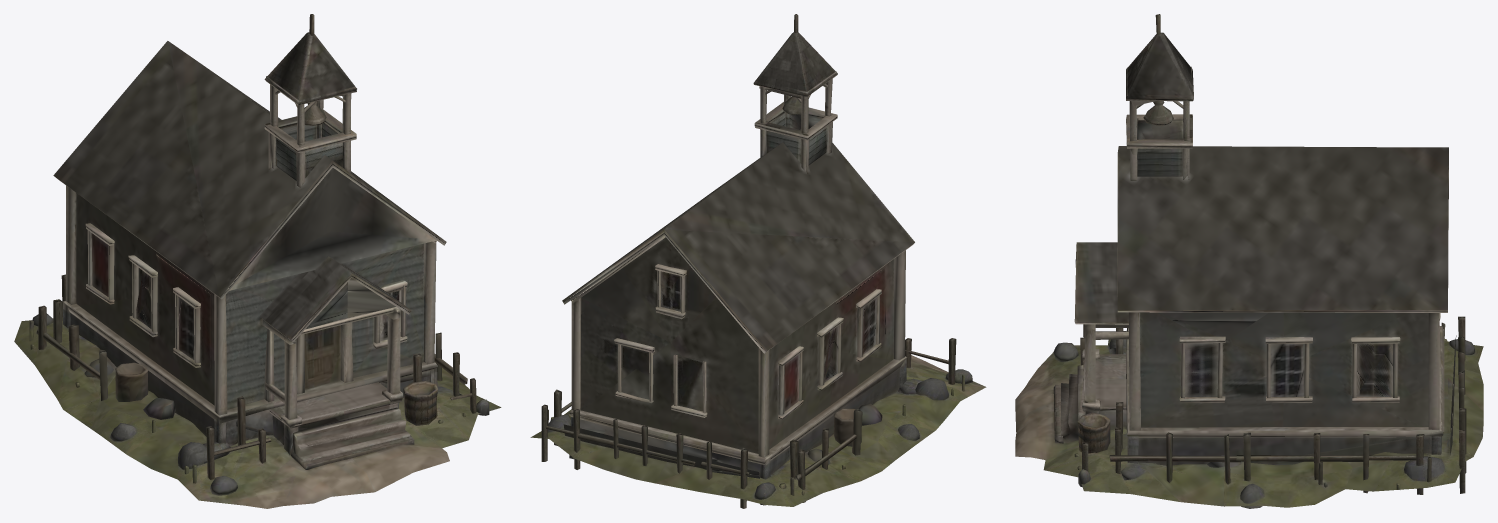
The model's file is schoolhouse.glb.
3 views of the same model, side by side, from view 1: azimuth 30°, elevation 25°; view 2: azimuth 150°, elevation 25°; view 3: azimuth 270°, elevation 25° (orthographic). The views are drawn at different scales.
Parts seen in each view (by area): view 1: SchoolhouseMesh; view 2: SchoolhouseMesh; view 3: SchoolhouseMesh.
Boxes of the visible parts, x1,y1,x2,y2 form: SchoolhouseMesh: [14, 14, 501, 508]; SchoolhouseMesh: [530, 14, 986, 508]; SchoolhouseMesh: [1015, 14, 1483, 508].
Size of the model in its own units: 1.66 by 1.99 by 2.
1 material, 1 textured.
